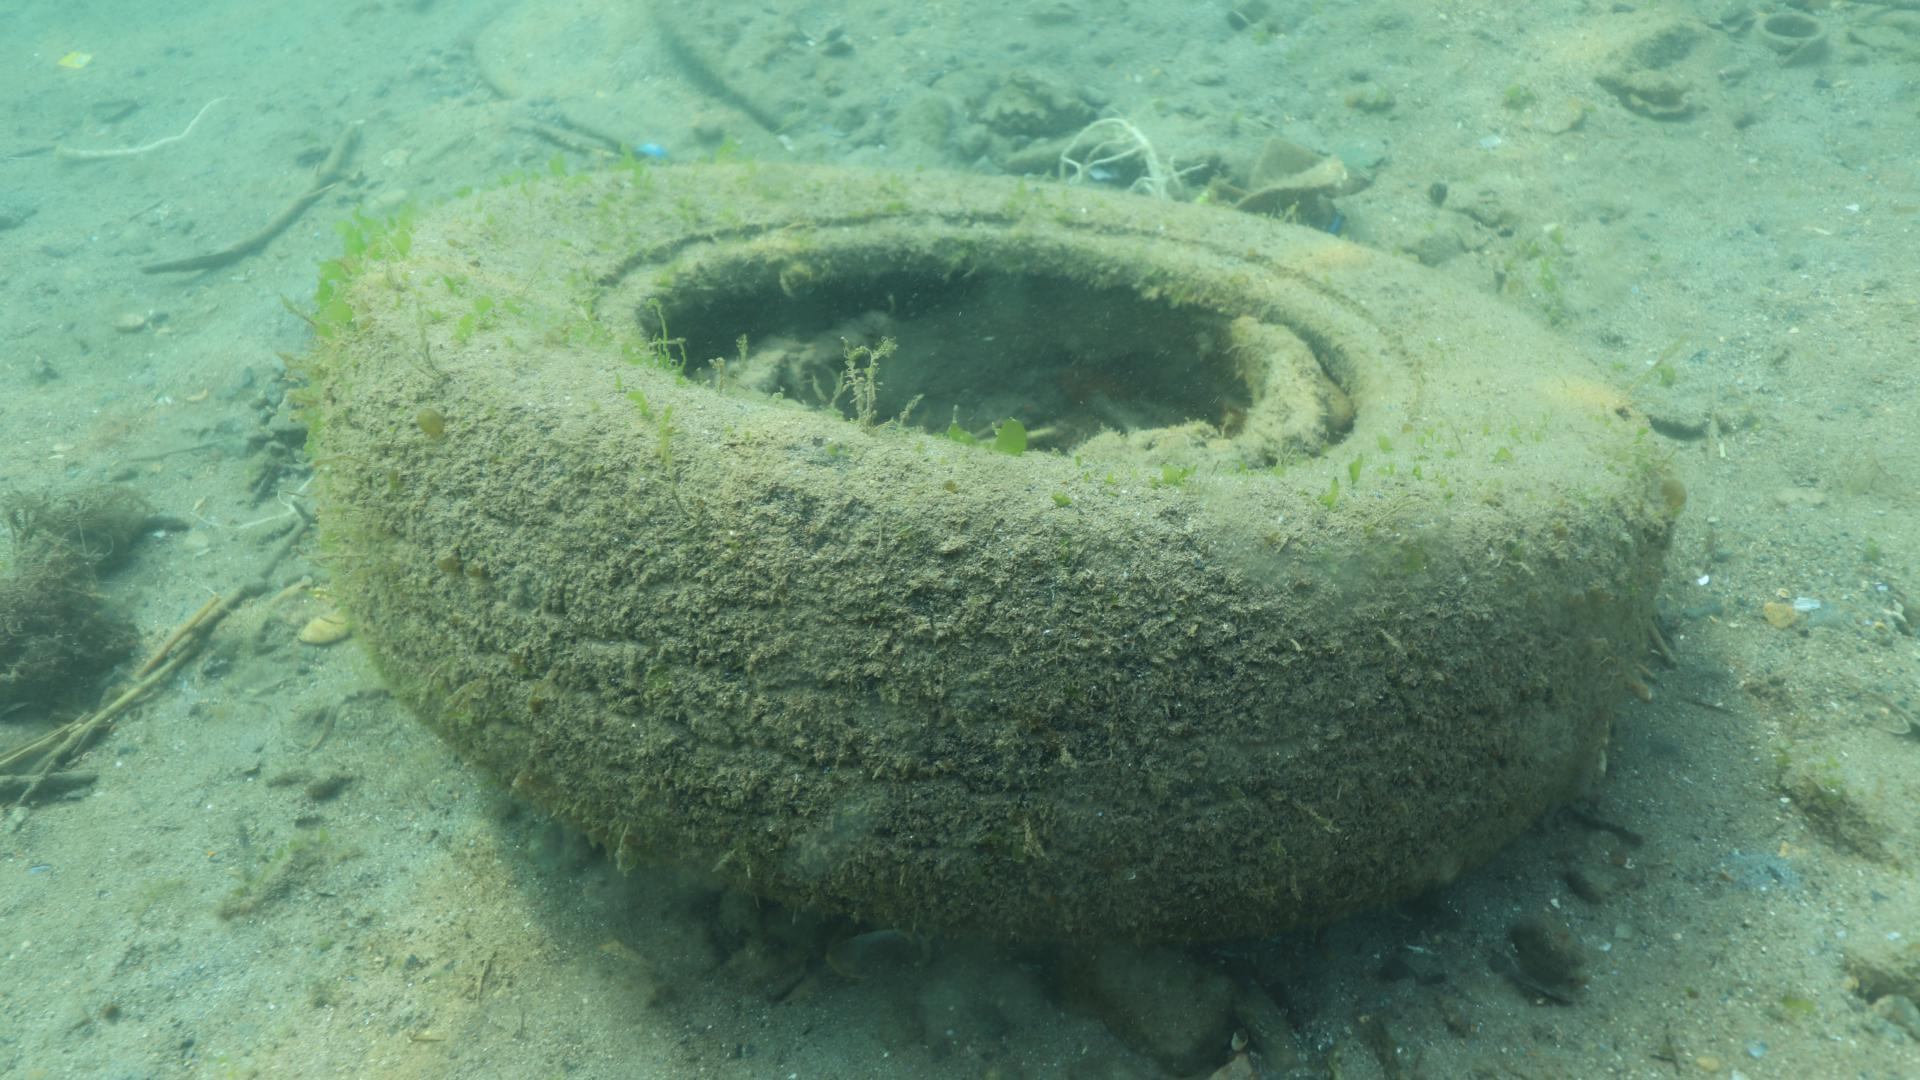tire: (314, 162, 1677, 934)
